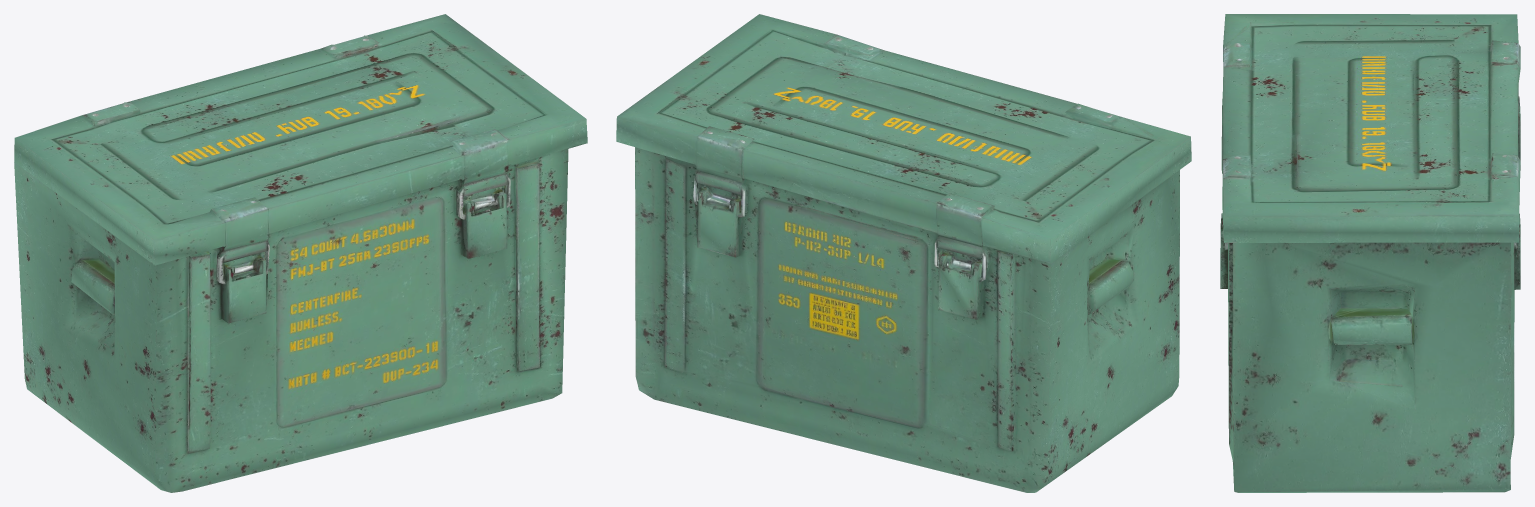
The model's file is smg-ammo.glb.
3 views of the same model, side by side, from view 1: azimuth 30°, elevation 25°; view 2: azimuth 150°, elevation 25°; view 3: azimuth 270°, elevation 25° (orthographic). The views are drawn at different scales.
Parts seen in each view (by area): view 1: Mesh_0; view 2: Mesh_0; view 3: Mesh_0.
Part boxes in pixels (box(x1,y1,x2,y2)): Mesh_0: box(14, 14, 587, 492); Mesh_0: box(616, 14, 1191, 492); Mesh_0: box(1220, 14, 1520, 492).
Bounding box in the file's own units: 1.91 × 1.19 × 1.1.
1 material, 1 textured.
